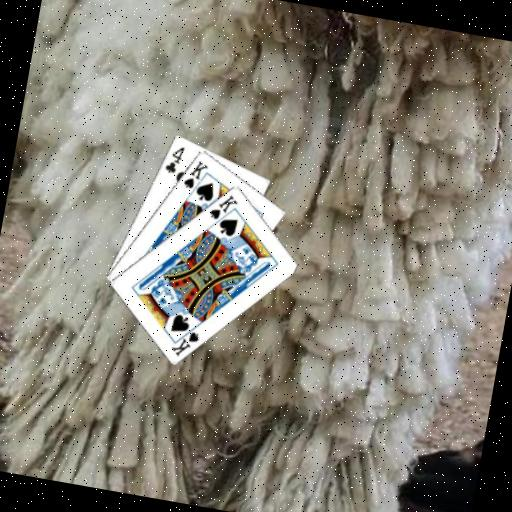4C: (161, 140, 187, 176)
KS: (167, 319, 203, 361), (205, 188, 240, 224), (180, 155, 211, 192)
